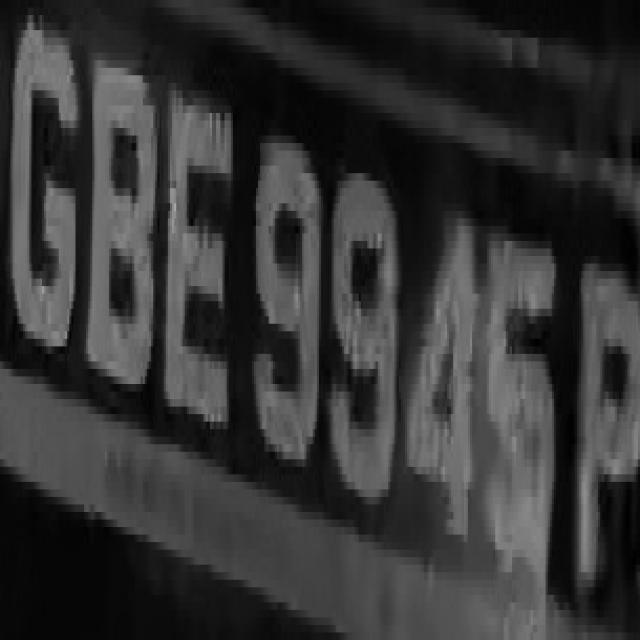4: (403, 151, 483, 542)
5: (481, 196, 558, 587)
9: (329, 128, 403, 542), (246, 135, 323, 482)
B: (80, 53, 155, 414)
E: (157, 76, 233, 460)
G: (6, 7, 78, 354)
P: (571, 211, 640, 625)
